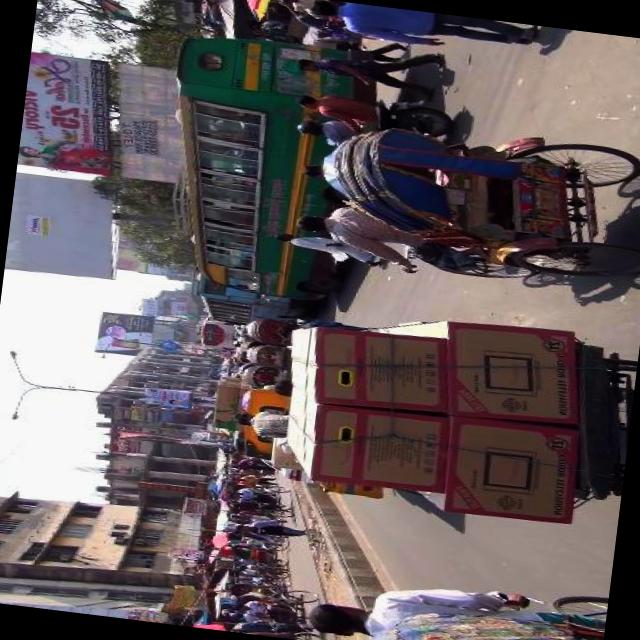bus: (142, 23, 386, 306), (181, 268, 324, 332), (197, 312, 240, 352)
motorcycle: (287, 99, 640, 307), (226, 580, 323, 640), (368, 90, 456, 138), (222, 474, 298, 518), (227, 535, 293, 577), (240, 309, 306, 348), (245, 339, 297, 368), (238, 362, 290, 391)
